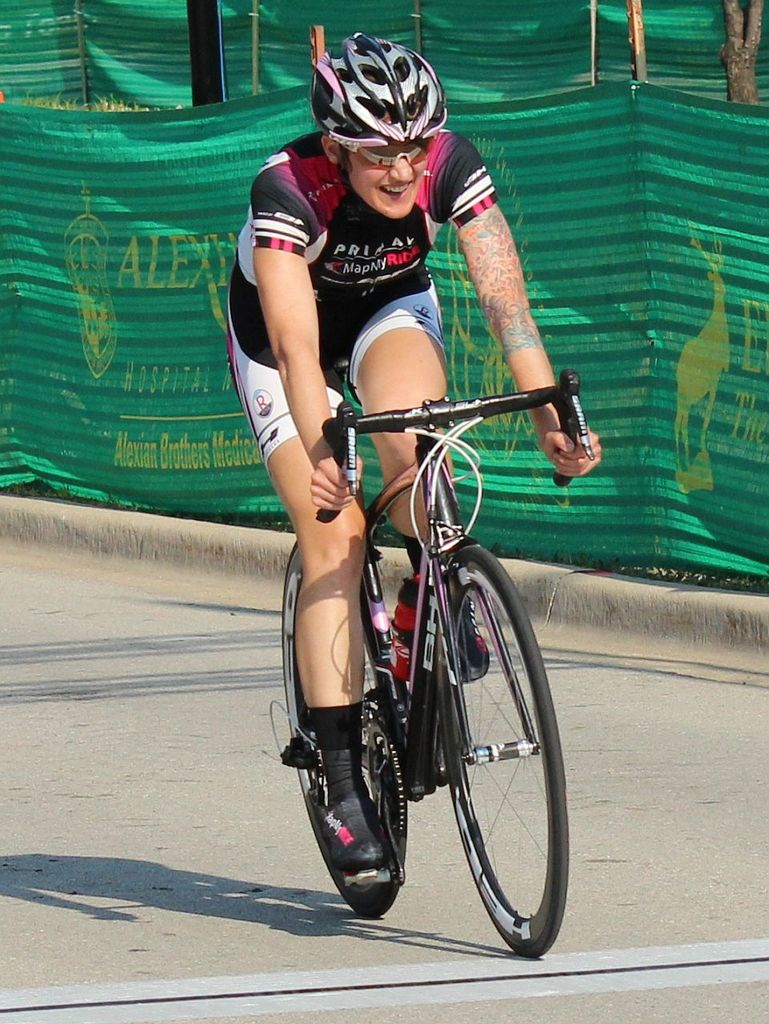Bike_toward: (199, 415, 662, 953)
